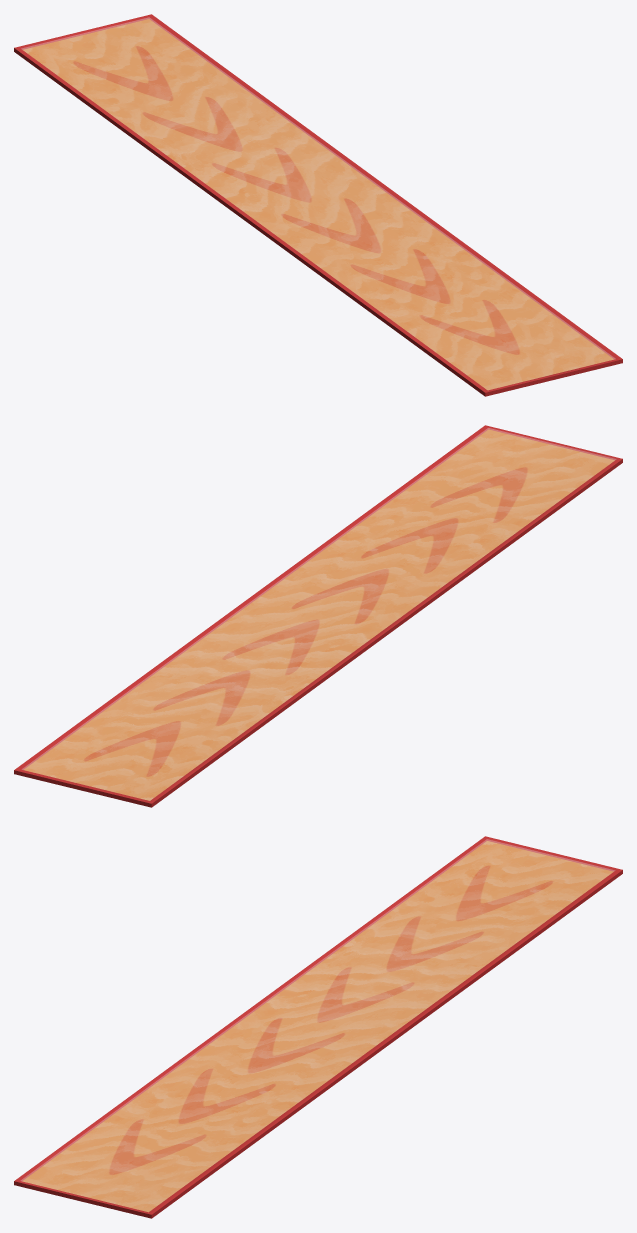
File: Ground_Slow.fbx
3 views of the same model, one above another, from view 1: azimuth 30°, elevation 25°; view 2: azimuth 150°, elevation 25°; view 3: azimuth 330°, elevation 25° (orthographic).
Parts seen in each view (by area): view 1: Ground_Slow; view 2: Ground_Slow; view 3: Ground_Slow.
Boxes of the visible parts, <box> form: Ground_Slow: <box>14,14,622,396</box>; Ground_Slow: <box>14,425,622,807</box>; Ground_Slow: <box>14,836,622,1218</box>.
Bounding box in the file's own units: 179 × 4.87 × 1062.
